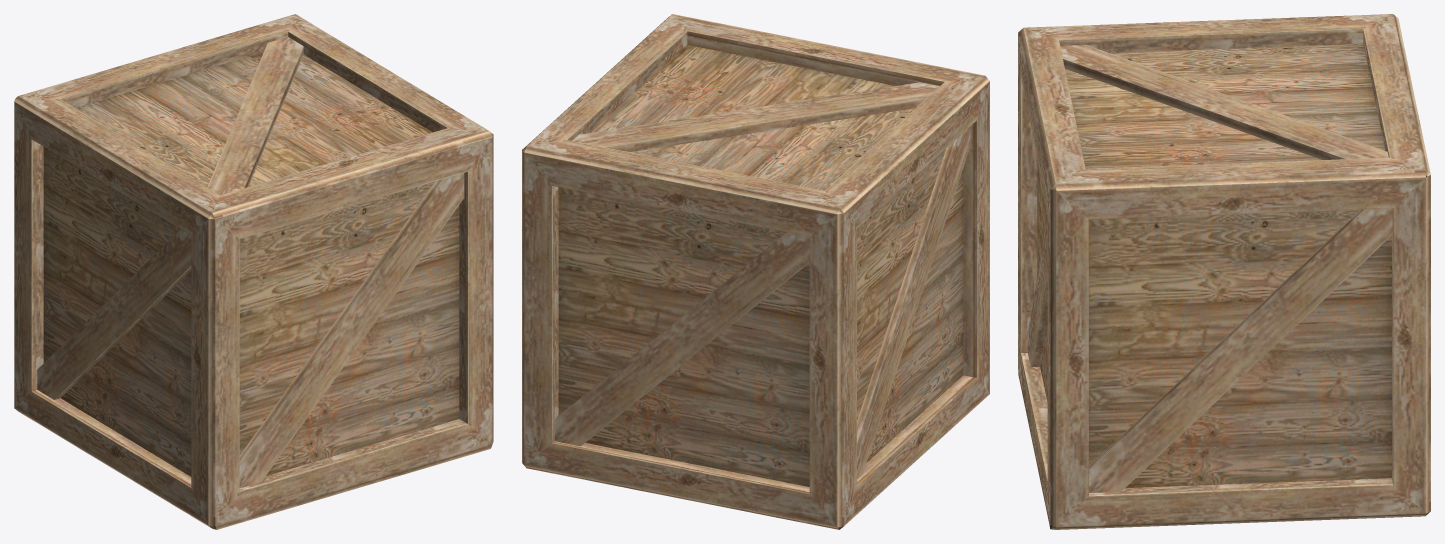
File: pallettebox011_woodbox_dm_0_lev1.glb
3 renders of one model, left to right at view 1: azimuth 30°, elevation 25°; view 2: azimuth 150°, elevation 25°; view 3: azimuth 270°, elevation 25°, orthographic. The views are drawn at different scales.
Visible parts, largest first — view 1: pallettebox011_woodbox_dm_0_lev1; view 2: pallettebox011_woodbox_dm_0_lev1; view 3: pallettebox011_woodbox_dm_0_lev1.
Boxes of the visible parts, x1,y1,x2,y2 form: pallettebox011_woodbox_dm_0_lev1: [14, 14, 493, 529]; pallettebox011_woodbox_dm_0_lev1: [522, 14, 989, 529]; pallettebox011_woodbox_dm_0_lev1: [1018, 14, 1430, 529].
Bounding box in the file's own units: 0.868 × 0.803 × 0.868.
1 material, 1 textured.
